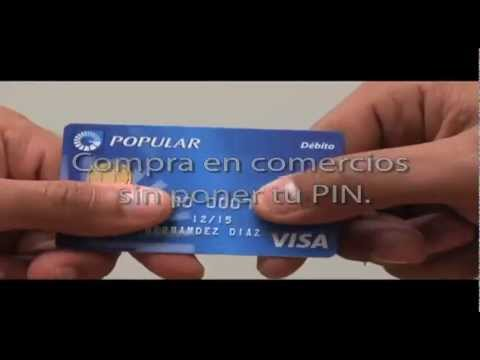tarjeta: (55, 123, 346, 258)
